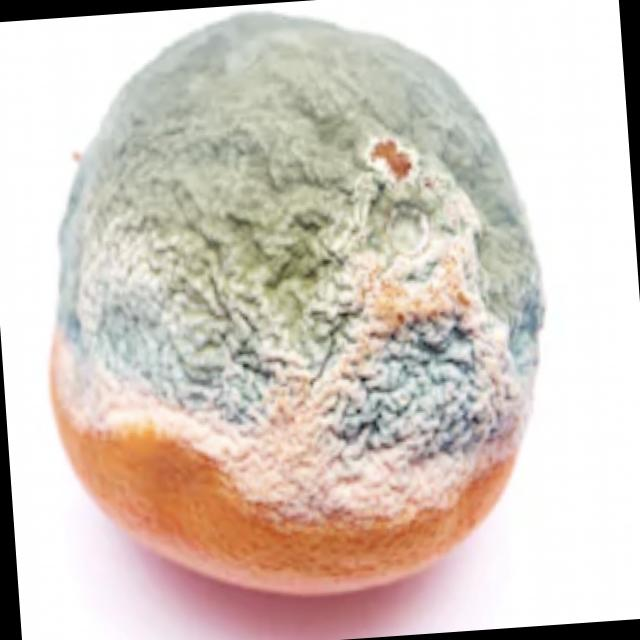rotten-orange: (26, 1, 556, 609)
